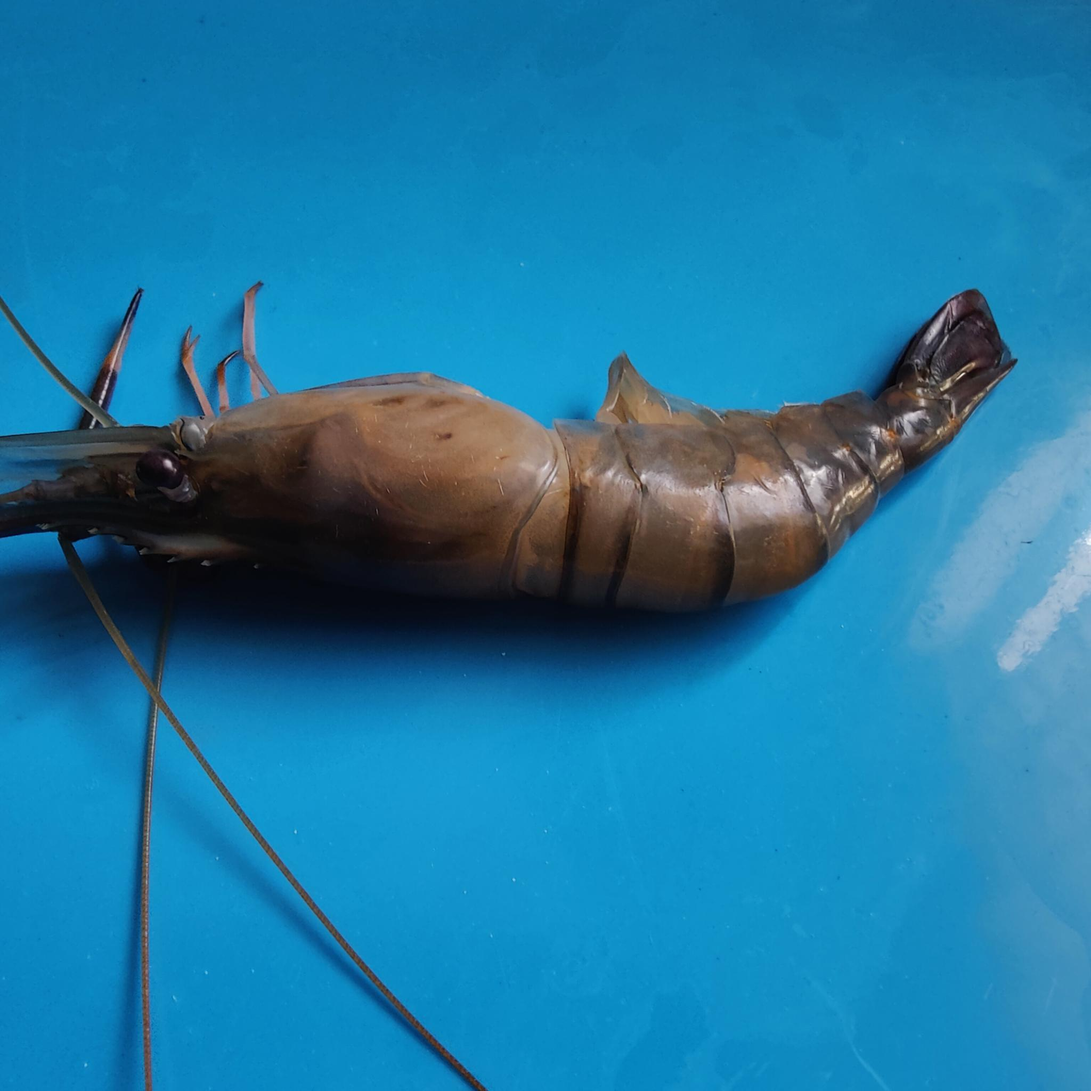BG: (369, 390, 470, 444)
